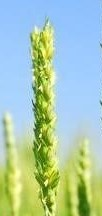Healthy Wheat: (26, 16, 63, 187)
